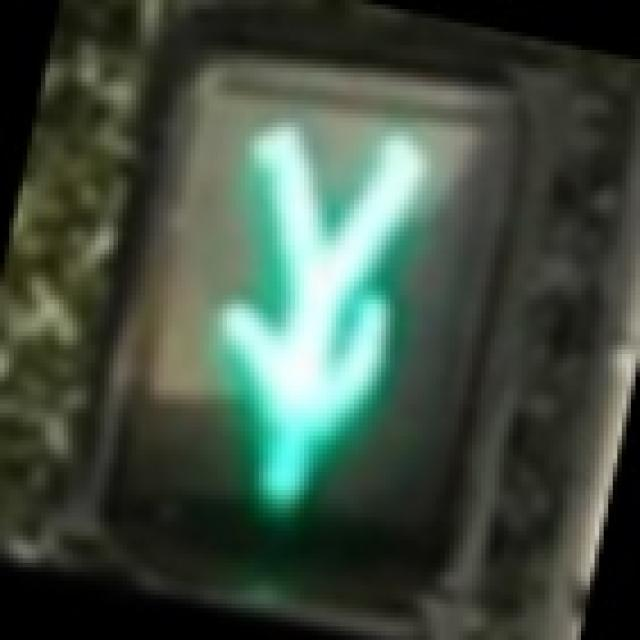geen-crossing: (104, 72, 513, 558)
